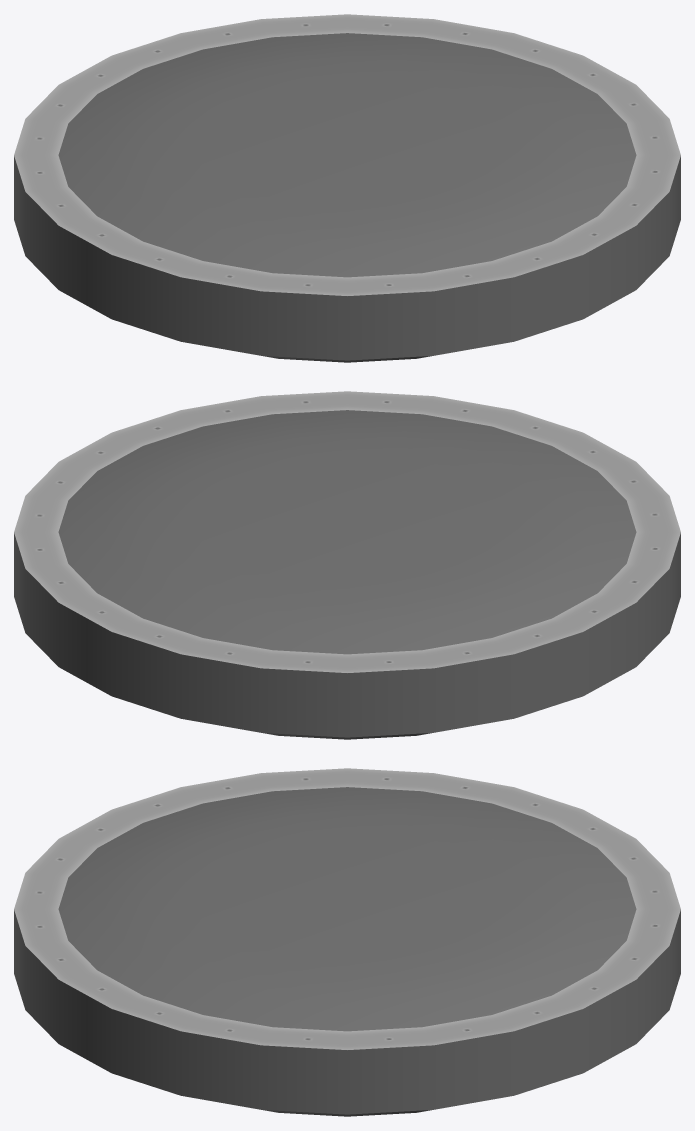
Rendered from Alnair_Parachute_1.obj.
The picture shows the model from 3 angles, top to bottom: view 1: azimuth 30°, elevation 25°; view 2: azimuth 150°, elevation 25°; view 3: azimuth 270°, elevation 25°; orthographic projection.
Visible parts, largest first — view 1: Alnair_Parachute_1_Cap, Alnair_Parachute_1; view 2: Alnair_Parachute_1_Cap, Alnair_Parachute_1; view 3: Alnair_Parachute_1_Cap, Alnair_Parachute_1.
Boxes of the visible parts, <box> form: Alnair_Parachute_1_Cap: <box>58,33,636,277</box>; Alnair_Parachute_1: <box>14,14,680,362</box>; Alnair_Parachute_1_Cap: <box>58,410,636,654</box>; Alnair_Parachute_1: <box>14,391,680,739</box>; Alnair_Parachute_1_Cap: <box>58,787,636,1031</box>; Alnair_Parachute_1: <box>14,768,680,1116</box>.
Size of the model in its own units: 0.9375 by 0.1687 by 0.9375.
